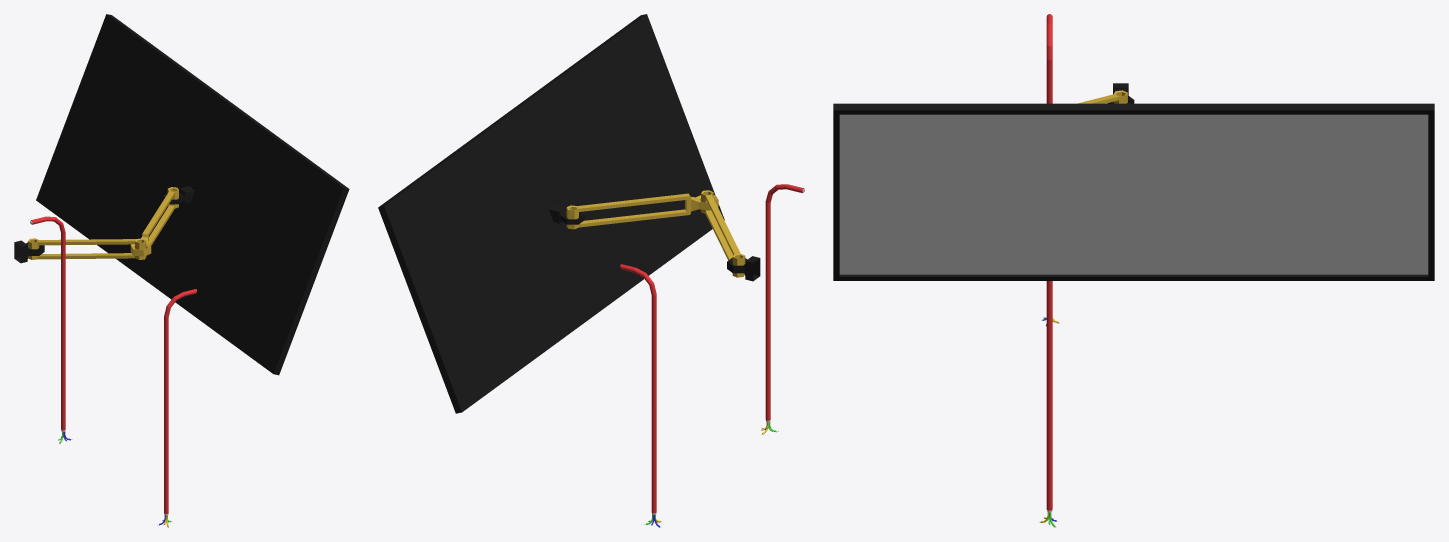
Rendered from monitorAndCable_broken.glb.
The picture shows the model from 3 angles, left to right: view 1: azimuth 30°, elevation 25°; view 2: azimuth 150°, elevation 25°; view 3: azimuth 270°, elevation 25°; orthographic projection. The views are drawn at different scales.
Parts seen in each view (by area): view 1: Cube.005, Plane.001, Plane; view 2: Cube.005, Plane.001, Plane; view 3: Cube.005, Plane.001.
Part boxes in pixels (box(x1,y1,x2,y2)): Cube.005: box(14, 14, 349, 375); Plane.001: box(157, 289, 196, 527); Plane: box(30, 216, 72, 443); Cube.005: box(378, 14, 760, 413); Plane.001: box(620, 264, 661, 527); Plane: box(760, 184, 804, 434); Cube.005: box(833, 83, 1434, 280); Plane.001: box(1039, 281, 1058, 527).
Size of the model in its own units: 2.27 by 3.51 by 4.
